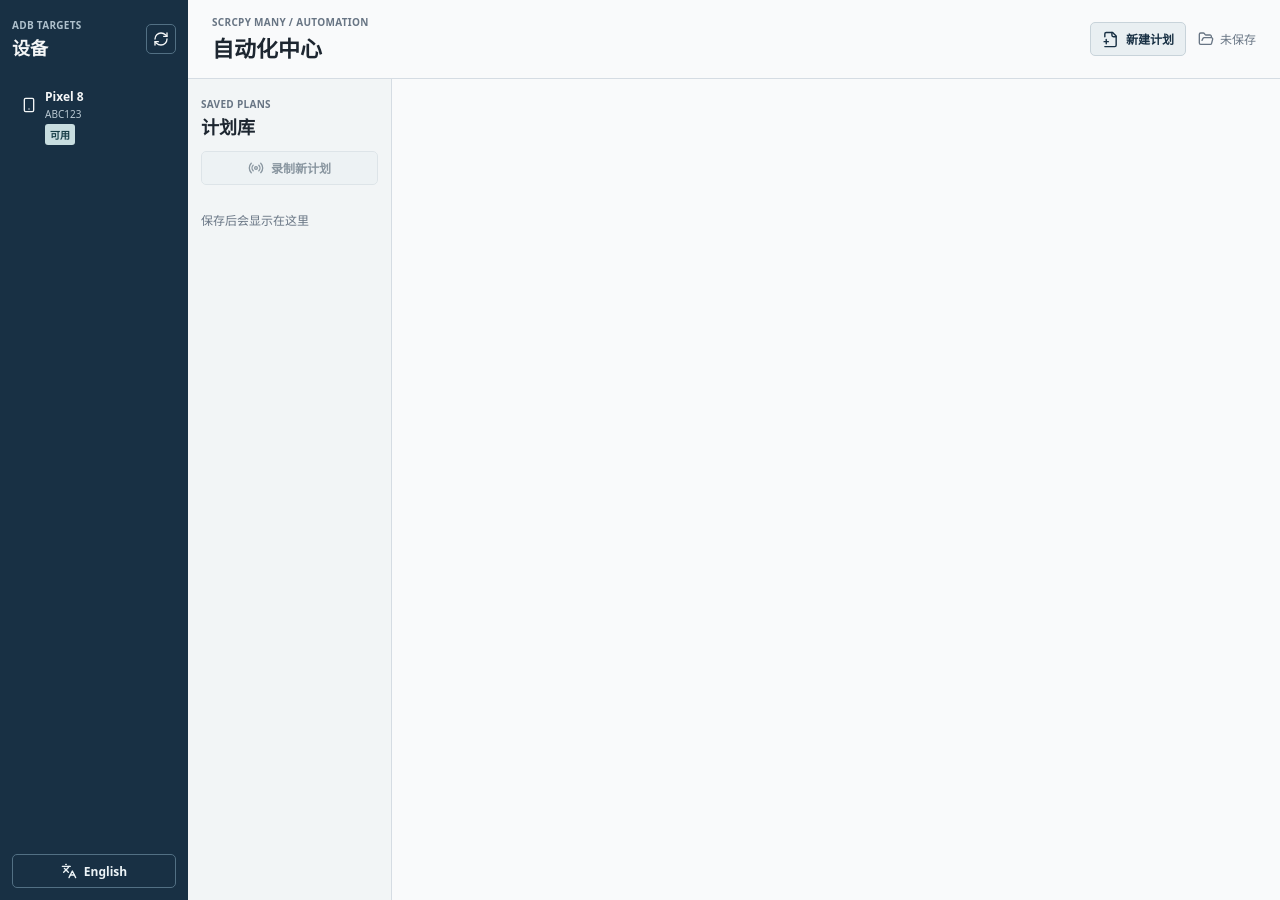
Test: App › leaves the detail area empty until a plan is selected or created
Expected: the heading "执行" is not shown
Click the button "新建计划".
click(1138, 39)  # box 1090,22 -> 1186,56
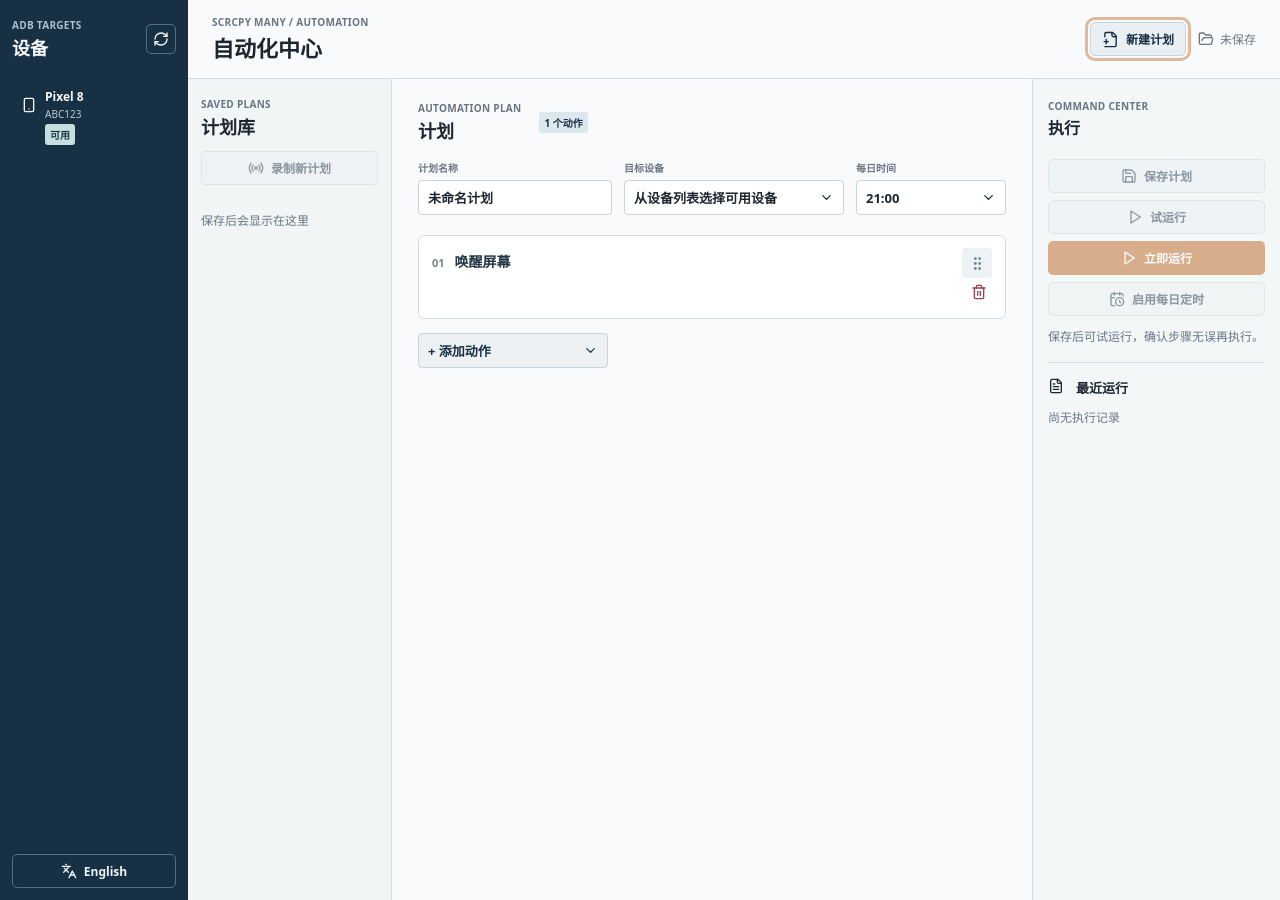
Result: the heading "执行" is shown at 1048,117 -> 1080,139
